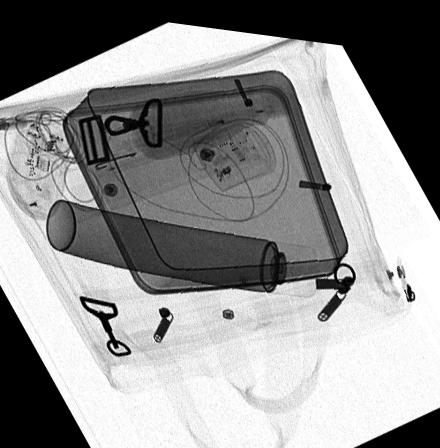Sprayer: (46, 197, 320, 289)
